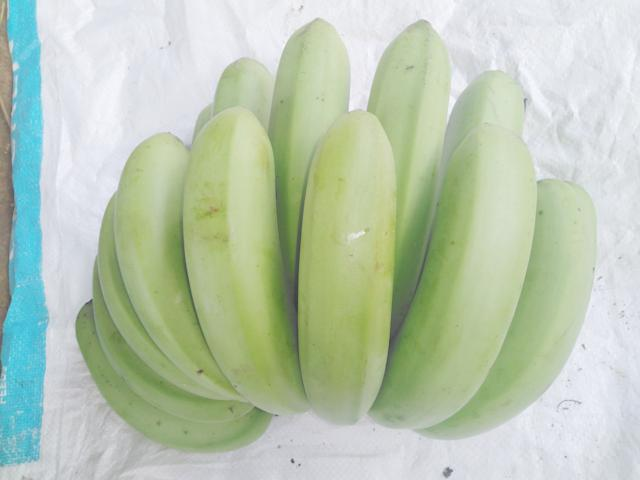unripe: (392, 124, 546, 452), (277, 98, 423, 428), (178, 103, 311, 416), (472, 156, 609, 436), (101, 117, 226, 387), (359, 1, 472, 166), (429, 54, 548, 172), (261, 4, 376, 121)
